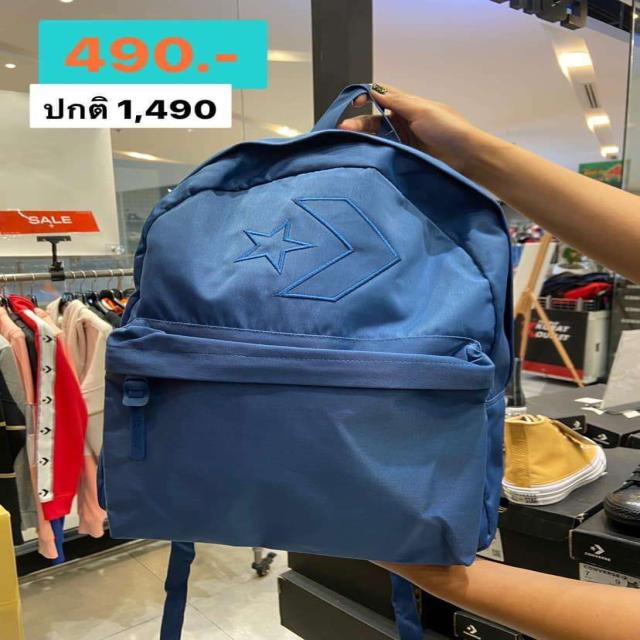handbag: (87, 91, 525, 580)
